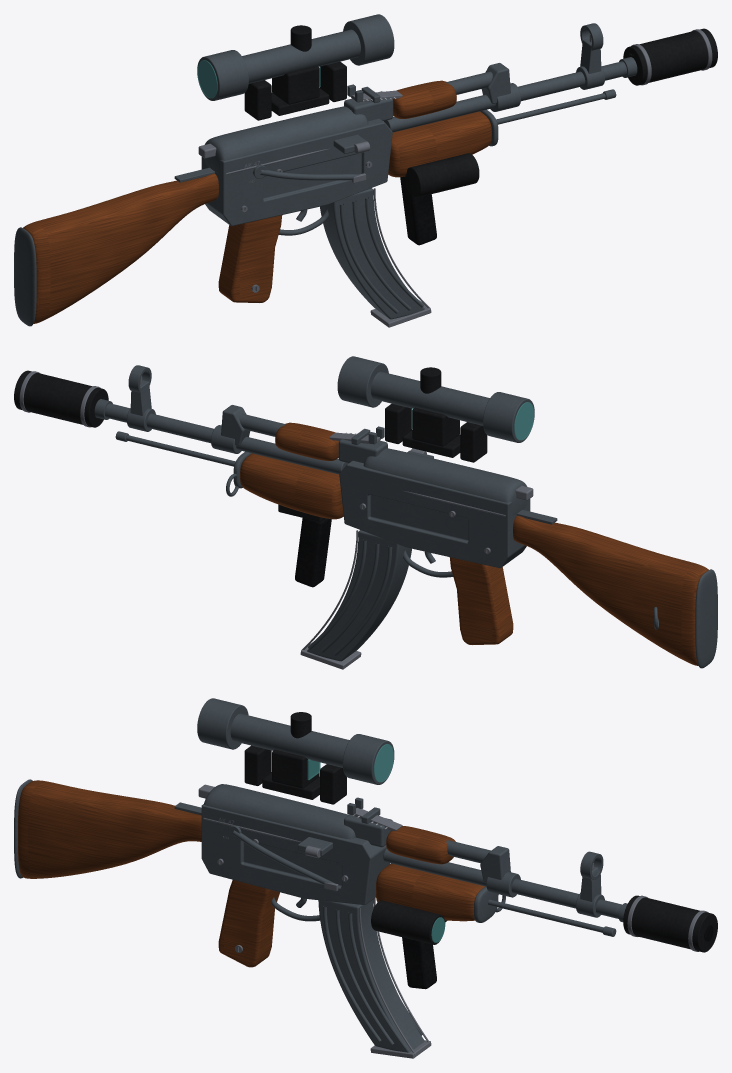
The picture shows the model from 3 angles, top to bottom: view 1: azimuth 30°, elevation 25°; view 2: azimuth 150°, elevation 25°; view 3: azimuth 330°, elevation 25°; orthographic projection.
Visible parts, largest first — view 1: Walnut buttstock, Milled receiver, Curved magazine shell, Walnut pistol grip, Formed dust cover, Lower walnut handguard, muzzle_suppressor, optic_scope_tube, Barrel, under_light_body, optic_scope_bell, Steel butt cap (+18 smaller); view 2: Walnut buttstock, Milled receiver, Curved magazine shell, Lower walnut handguard, Walnut pistol grip, Formed dust cover, muzzle_suppressor, optic_scope_tube, Barrel, optic_scope_bell, Steel butt cap, under_grip_body (+16 smaller); view 3: Walnut buttstock, Milled receiver, Curved magazine shell, Lower walnut handguard, Walnut pistol grip, Formed dust cover, muzzle_suppressor, optic_scope_tube, Barrel, under_light_body, optic_scope_bell.001, Upper walnut gas cover (+16 smaller).
Boxes of the visible parts, x1,y1,x2,y2 form: Walnut buttstock: [23, 173, 218, 323]; Milled receiver: [201, 118, 392, 226]; Curved magazine shell: [320, 188, 424, 319]; Walnut pistol grip: [218, 215, 282, 302]; Formed dust cover: [204, 106, 368, 172]; Lower walnut handguard: [388, 111, 491, 177]; muzzle_suppressor: [623, 28, 717, 85]; optic_scope_tube: [242, 29, 360, 83]; Barrel: [383, 61, 626, 132]; under_light_body: [405, 153, 479, 197]; optic_scope_bell: [197, 50, 248, 100]; Steel butt cap: [14, 227, 36, 326]; Walnut buttstock: [513, 515, 708, 665]; Milled receiver: [339, 460, 530, 568]; Curved magazine shell: [307, 530, 411, 661]; Lower walnut handguard: [240, 453, 343, 519]; Walnut pistol grip: [449, 557, 513, 644]; Formed dust cover: [363, 448, 527, 515]; muzzle_suppressor: [14, 370, 108, 427]; optic_scope_tube: [371, 371, 489, 425]; Barrel: [105, 403, 348, 474]; optic_scope_bell: [483, 392, 534, 442]; Steel butt cap: [695, 569, 717, 668]; under_grip_body: [295, 518, 331, 587]; Walnut buttstock: [18, 780, 201, 878]; Milled receiver: [201, 804, 390, 904]; Curved magazine shell: [318, 899, 424, 1052]; Lower walnut handguard: [376, 863, 484, 921]; Walnut pistol grip: [218, 880, 279, 967]; Formed dust cover: [204, 784, 355, 839]; muzzle_suppressor: [623, 895, 717, 952]; optic_scope_tube: [230, 713, 349, 767]; Barrel: [383, 848, 621, 918]; under_light_body: [371, 900, 445, 944]; optic_scope_bell.001: [342, 734, 394, 784]; Upper walnut gas cover: [386, 826, 455, 864].
Bounding box in the file's own units: 2.55 × 1.1 × 0.2943.
7 materials, 6 textured.
